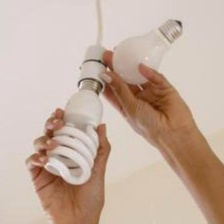light_bulb: (37, 75, 109, 190), (110, 17, 187, 90)
